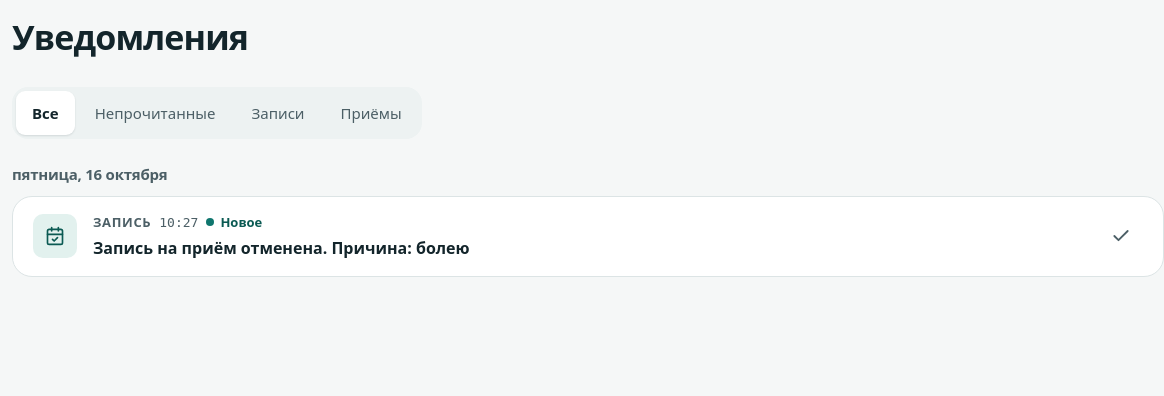
Test: NotificationCenter › should show the problem and read the list again when marking fails
Expected: the list is shown, left=12, top=196, right=1163, bottom=277
Click the button named "Отметить прочитанным". click: (1121, 236)
box: left=1099, top=214, right=1143, bottom=258
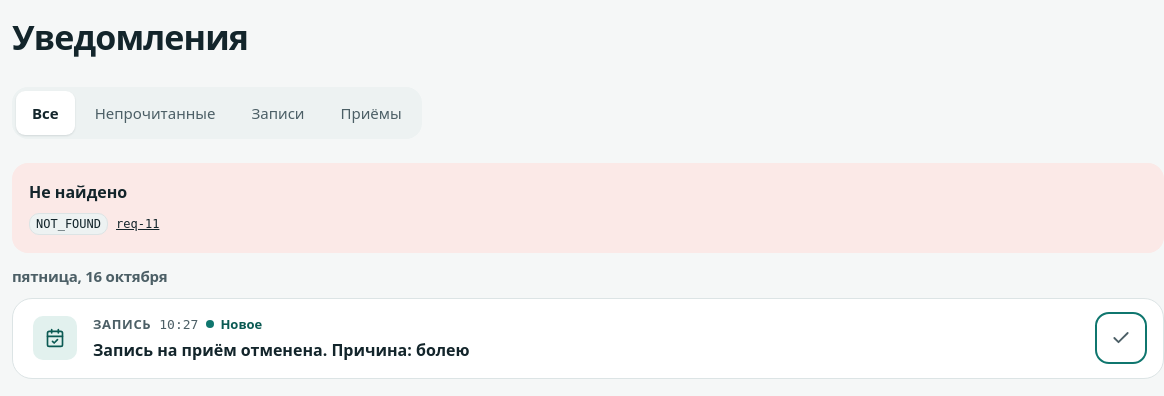
Expected: the message with test id "problem-banner" shows "req-11", left=116, top=212, right=159, bottom=236
